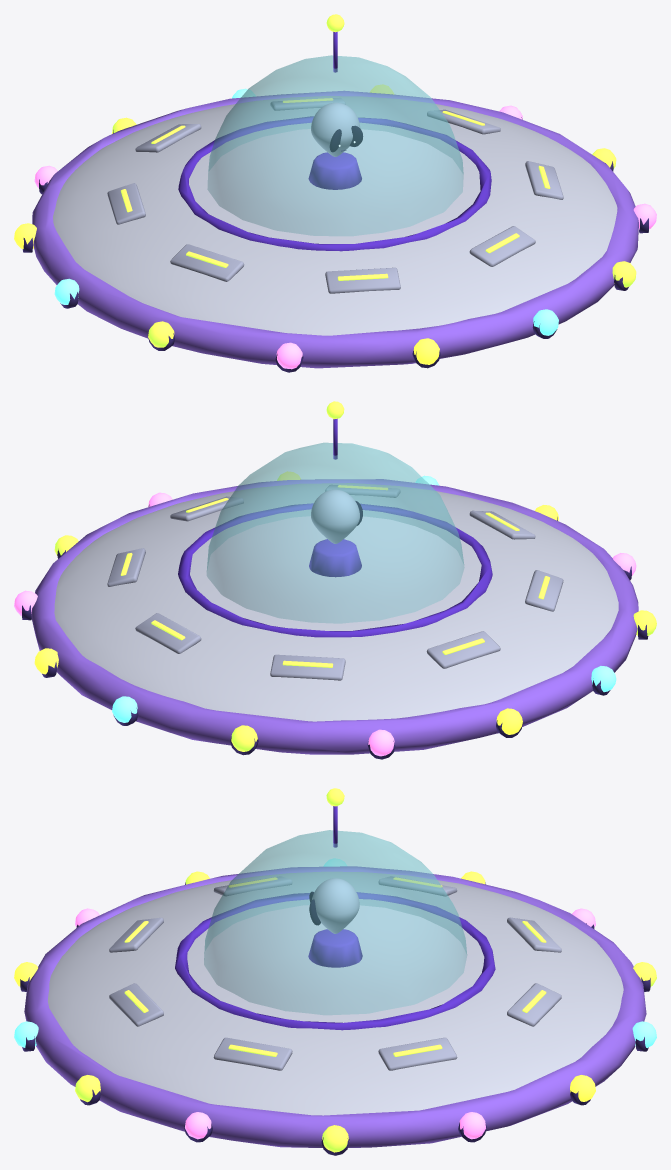
Rendered from b_saucer.glb.
3 renders of one model, top to bottom at view 1: azimuth 30°, elevation 25°; view 2: azimuth 150°, elevation 25°; view 3: azimuth 270°, elevation 25°, orthographic. The views are drawn at different scales.
Visible parts, largest first — view 1: hull; view 2: hull; view 3: hull.
Part boxes in pixels (x1,y1,x2,y2): hull: (14,14,656,372); hull: (14,401,656,759); hull: (14,788,656,1155).
Bounding box in the file's own units: 11.48 × 5.91 × 11.2.
